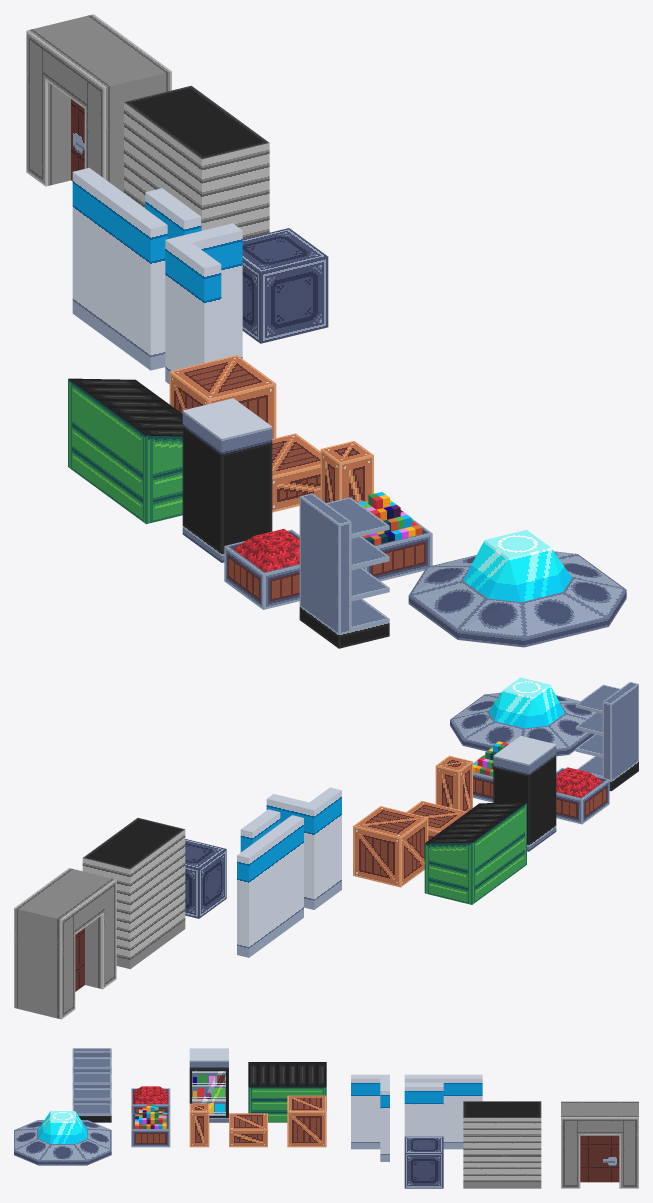
Rendered from models_midnight_snack.glb.
3 views of the same model, one above another, from view 1: azimuth 30°, elevation 25°; view 2: azimuth 150°, elevation 25°; view 3: azimuth 270°, elevation 25° (orthographic). The views are drawn at different scales.
Parts seen in each view (by area): view 1: UFO, DoorFrame, Wall, ThinWall, Dumpster, GroceryFreezer, ShelfUnit, Cube, Test, FoodDisplayPyramid, CrateWood1, ItemDisplayPyramid (+4 smaller); view 2: DoorFrame, Wall, Dumpster, ThinWall, UFO, ShelfUnit, GroceryFreezer, CrateWood1, Cube, Test, FoodDisplayPyramid, CrateWood3 (+4 smaller); view 3: Wall, DoorFrame, UFO, Dumpster, Cube, ShelfUnit, GroceryFreezer, ThinWall, ThinWallShort, CrateWood1, Test, Door (+4 smaller).
Boxes of the visible parts, bbox=[...] form: UFO: bbox=[408, 530, 626, 647]; DoorFrame: bbox=[26, 14, 171, 192]; Wall: bbox=[124, 85, 269, 238]; ThinWall: bbox=[72, 167, 167, 370]; Dumpster: bbox=[68, 378, 182, 524]; GroceryFreezer: bbox=[182, 398, 272, 562]; ShelfUnit: bbox=[299, 493, 389, 648]; Cube: bbox=[165, 223, 242, 384]; Test: bbox=[242, 228, 328, 343]; FoodDisplayPyramid: bbox=[224, 528, 299, 609]; CrateWood1: bbox=[169, 355, 276, 438]; ItemDisplayPyramid: bbox=[358, 492, 432, 581]; DoorFrame: bbox=[14, 868, 116, 1019]; Wall: bbox=[82, 818, 185, 969]; Dumpster: bbox=[424, 802, 526, 904]; ThinWall: bbox=[237, 815, 303, 957]; UFO: bbox=[450, 677, 594, 756]; ShelfUnit: bbox=[575, 682, 638, 791]; GroceryFreezer: bbox=[493, 736, 556, 851]; CrateWood1: bbox=[353, 806, 428, 887]; Cube: bbox=[266, 787, 341, 909]; Test: bbox=[185, 839, 226, 918]; FoodDisplayPyramid: bbox=[556, 767, 609, 824]; CrateWood3: bbox=[435, 755, 472, 811]; Wall: bbox=[463, 1101, 541, 1188]; DoorFrame: bbox=[561, 1101, 638, 1188]; UFO: bbox=[14, 1111, 111, 1165]; Dumpster: bbox=[248, 1062, 326, 1122]; Cube: bbox=[351, 1074, 389, 1161]; ShelfUnit: bbox=[72, 1048, 111, 1122]; GroceryFreezer: bbox=[189, 1048, 228, 1122]; ThinWall: bbox=[404, 1074, 482, 1149]; ThinWallShort: bbox=[404, 1082, 443, 1136]; CrateWood1: bbox=[287, 1095, 326, 1147]; Test: bbox=[404, 1136, 443, 1188]; Door: bbox=[580, 1135, 619, 1182].
Bounding box in the file's own units: 10 × 4 × 32.
10 materials, 10 textured.
